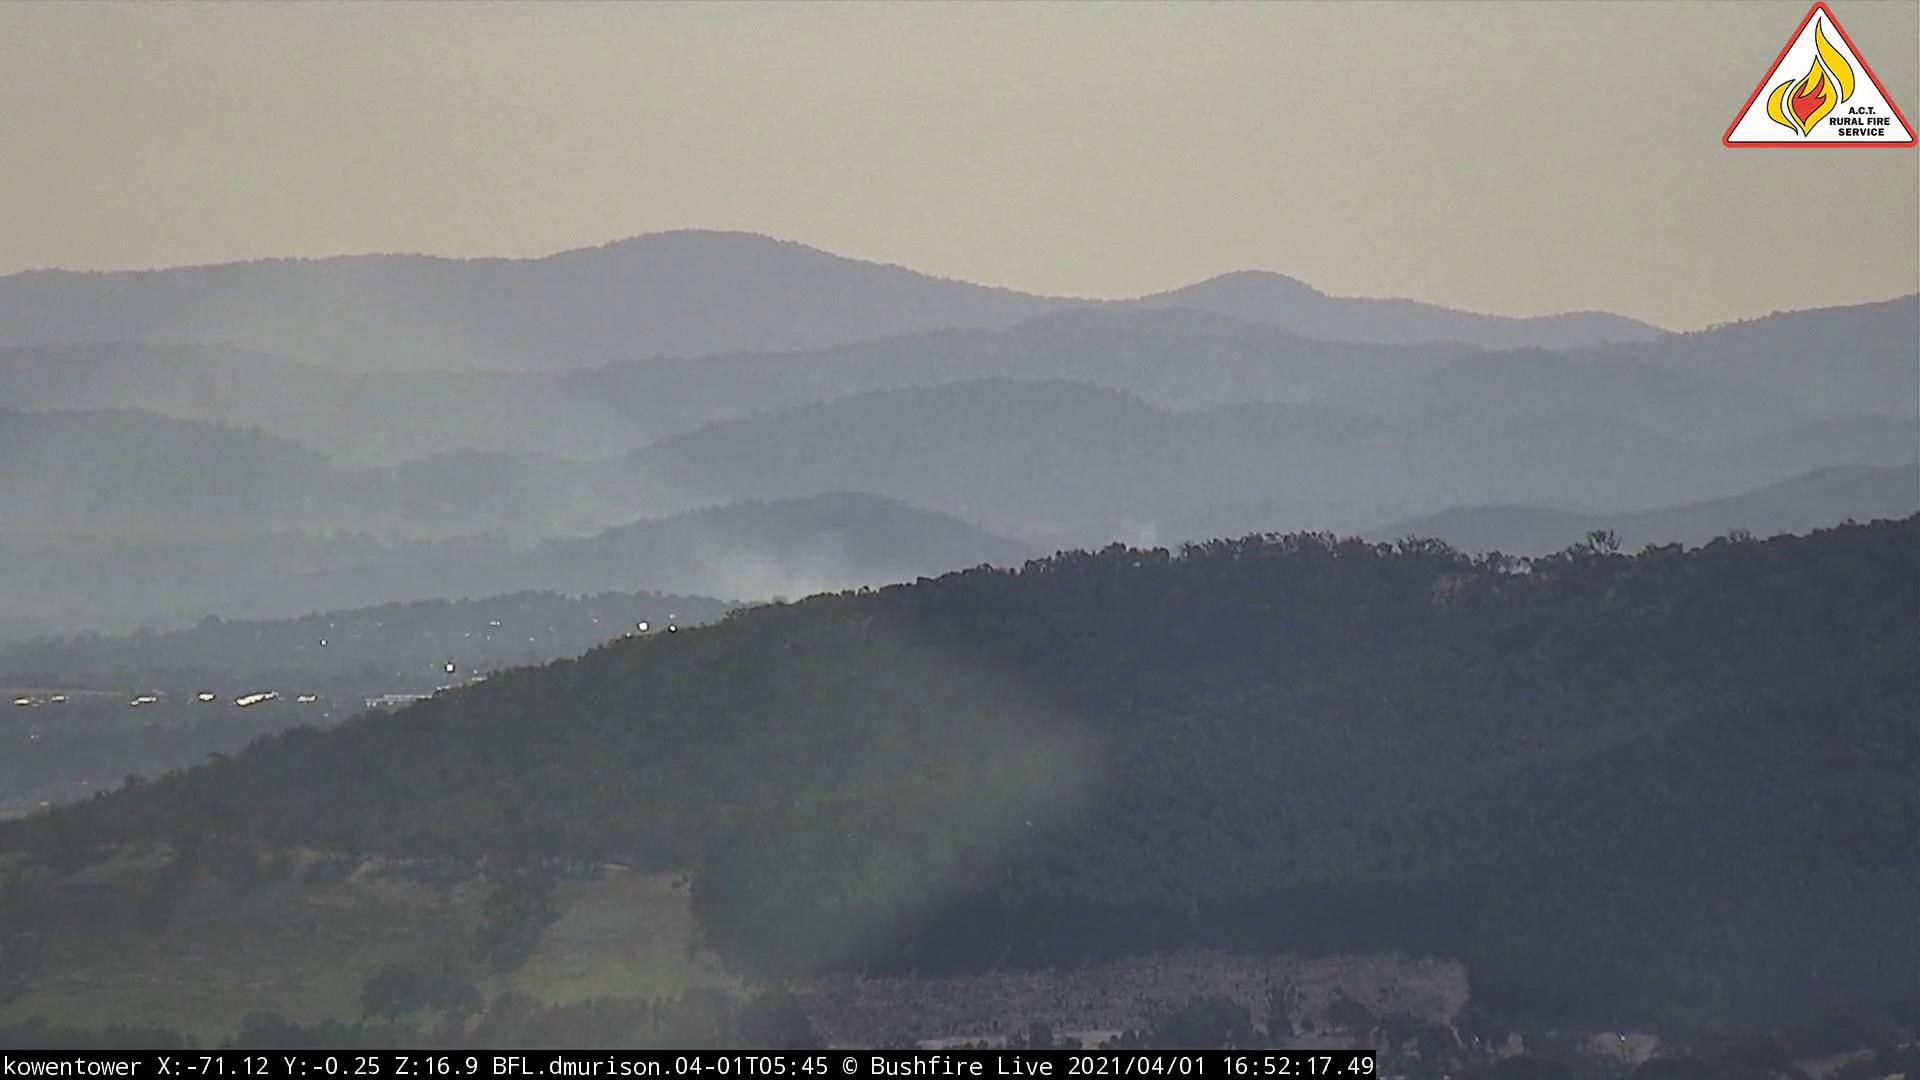Smoke: (665, 496, 963, 622), (1102, 504, 1180, 568)
